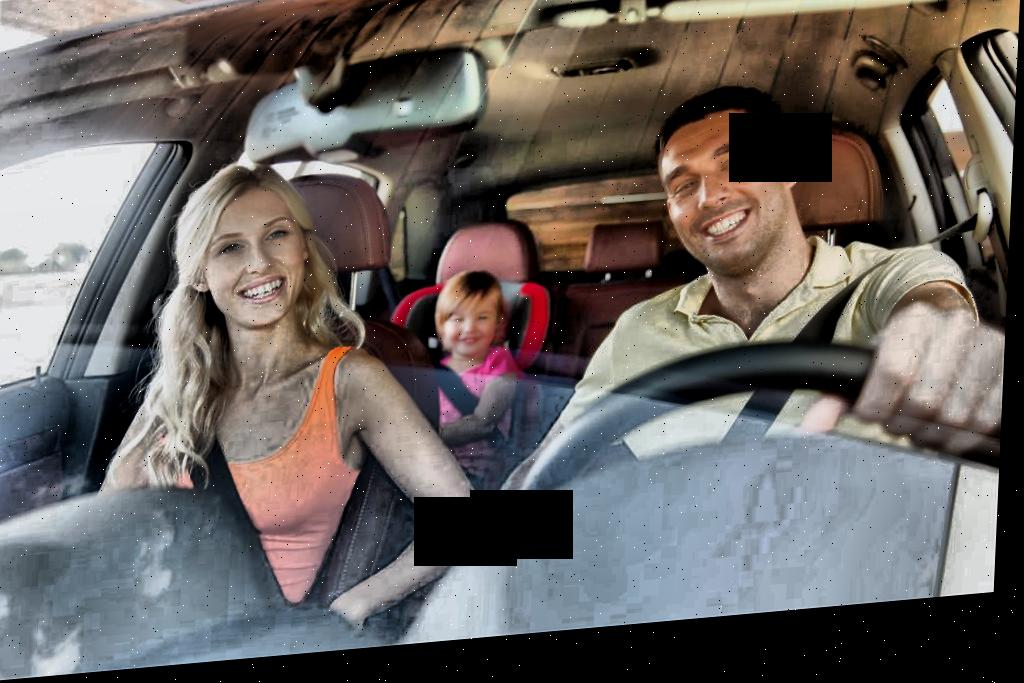seatbelt: (733, 224, 991, 451), (173, 401, 309, 608), (430, 349, 518, 476)
